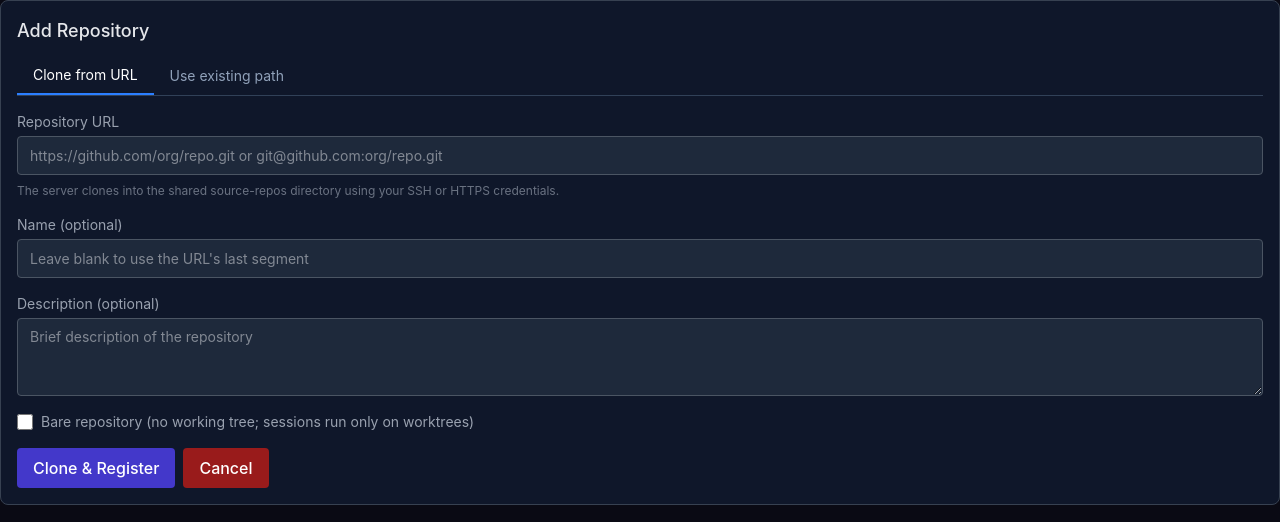
Test: AddRepositoryForm › Use existing path tab (delegates to parent onSubmit) › shows validation error when path is empty
Click the tab "Use existing path" at (227, 76), box [154,57,300,95]
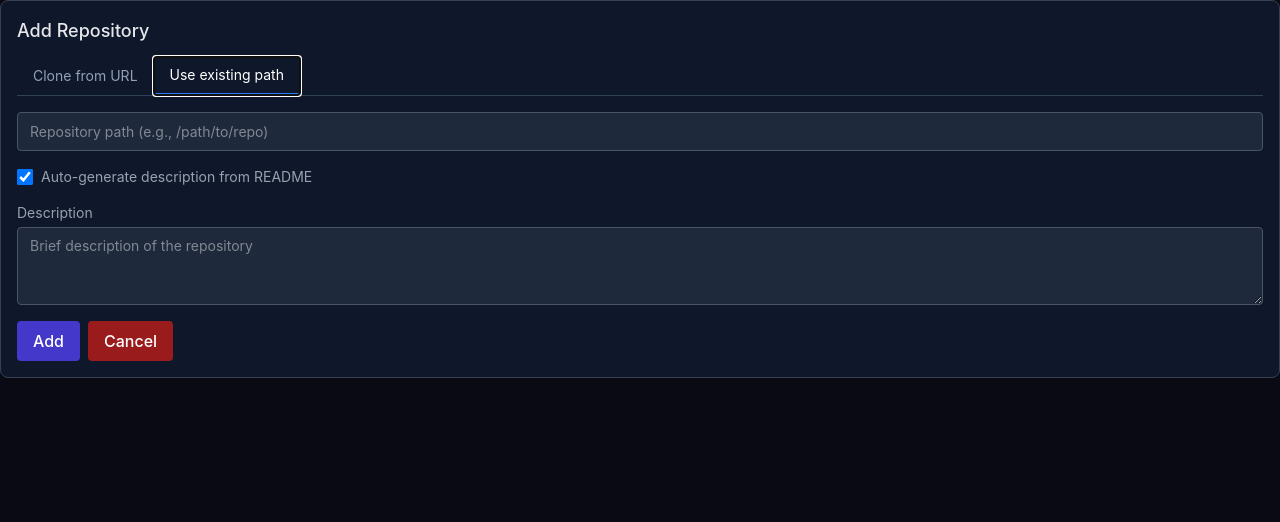
Click the button "Add" at (48, 341), box [17,321,80,361]
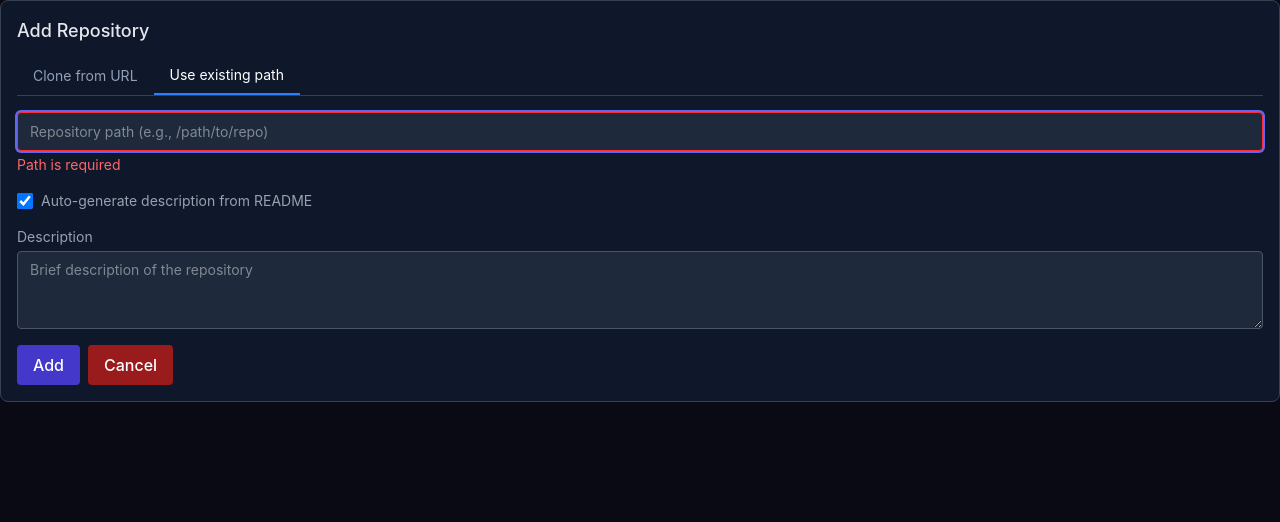
Check: the text "Path is required" is shown, box [17,156,120,173]
